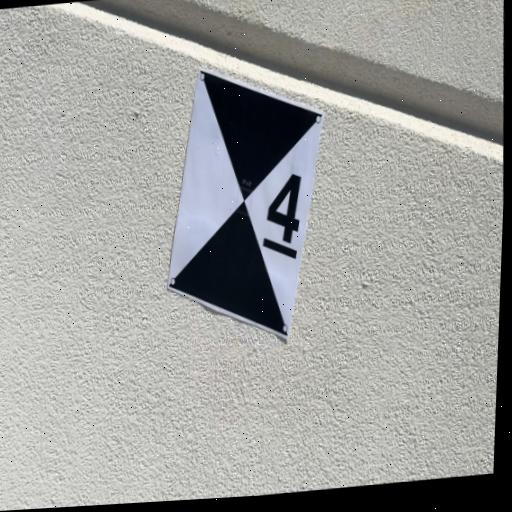target4: (167, 66, 325, 340)
